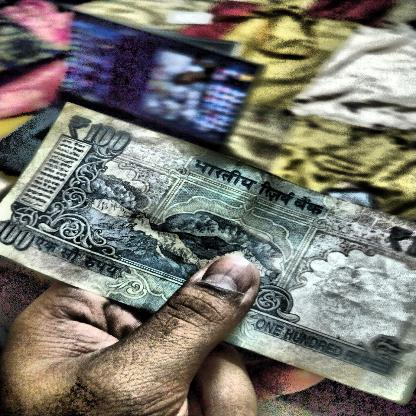Rs100: (61, 111, 135, 156)
